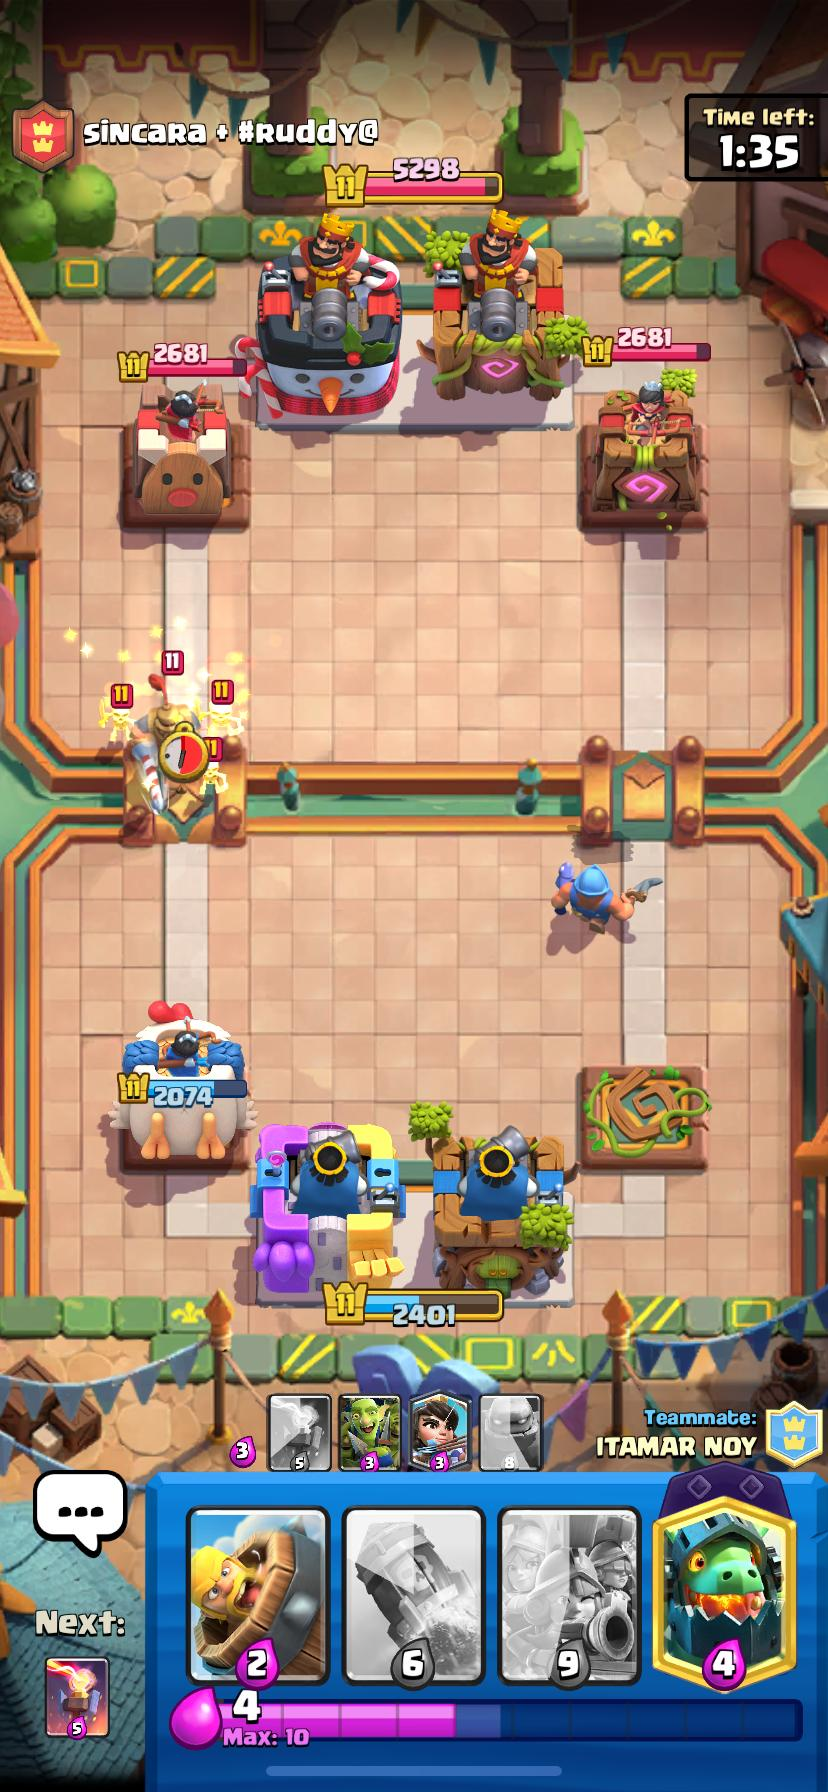EKingTower: (253, 213, 401, 424), (419, 211, 565, 400)
ELarry: (201, 677, 247, 741), (99, 682, 134, 747), (202, 735, 228, 800)
EPrince: (133, 675, 198, 813)
EnemyPrincessTower: (580, 385, 706, 529), (124, 384, 249, 528)
OFisherman: (551, 863, 658, 933)
OwnKingTower: (250, 1123, 405, 1299), (433, 1126, 572, 1293)
OwnPrincessTower: (109, 1001, 255, 1160)
TowerDown: (581, 1066, 709, 1169)
